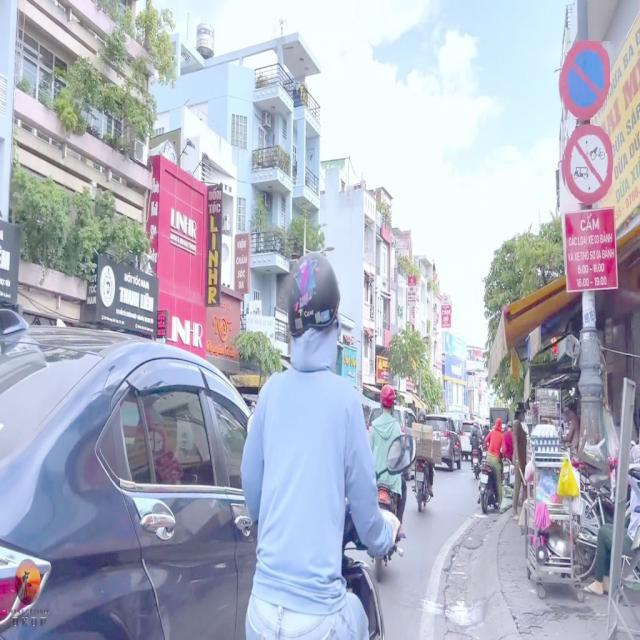cam_cac_loai_xe_3_banh: (562, 126, 612, 204)
cam_do_xe: (560, 41, 610, 120)
